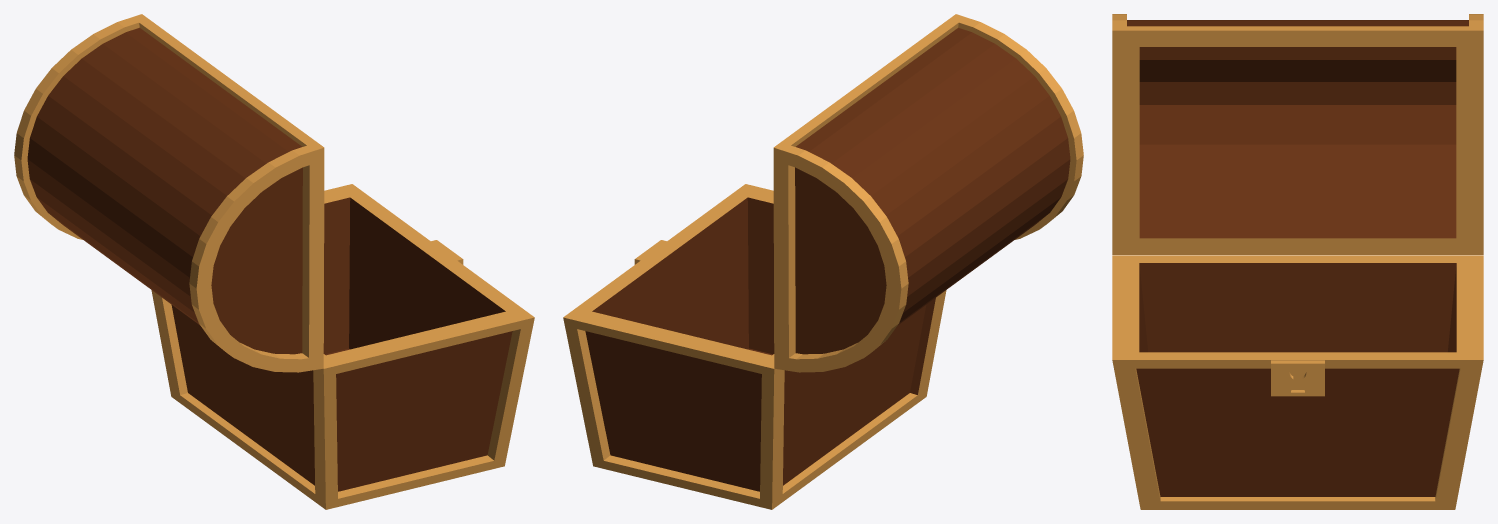
File: TreasureBoxblend.fbx
3 renders of one model, left to right at view 1: azimuth 30°, elevation 25°; view 2: azimuth 150°, elevation 25°; view 3: azimuth 270°, elevation 25°, orthographic.
Visible parts, largest first — view 1: Cover, Box; view 2: Cover, Box; view 3: Box, Cover.
Part boxes in pixels (x1,y1,x2,y2): Cover: [14, 14, 324, 372]; Box: [151, 184, 534, 509]; Cover: [773, 14, 1083, 372]; Box: [563, 184, 946, 509]; Box: [1112, 255, 1483, 509]; Cover: [1112, 14, 1483, 254].
Bounding box in the file's own units: 270 × 282 × 248.
